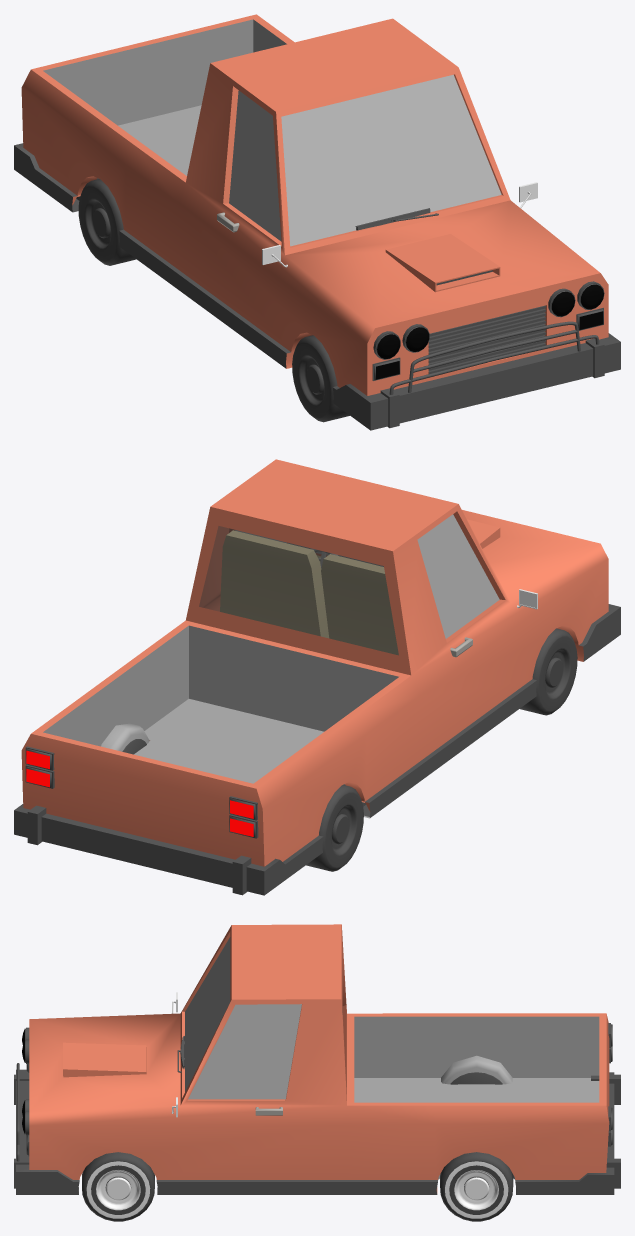
File: car3.fbx
The picture shows the model from 3 angles, top to bottom: view 1: azimuth 30°, elevation 25°; view 2: azimuth 150°, elevation 25°; view 3: azimuth 270°, elevation 25°; orthographic projection. The views are drawn at different scales.
Visible parts, largest first — view 1: Main_car_1_2, Head_lights_5, Back_left_wheel, Front_left_wheel; view 2: Main_car_1_2, Front, Back_left_wheel, Front_left_wheel, Back_lights_4; view 3: Main_car_1_2, Back_right_wheel, Front_right_wheel, Head_lights_5, Back_left_wheel.
Part boxes in pixels (x1=…): Main_car_1_2: x1=14, y1=14, x2=620, y2=430; Head_lights_5: x1=372, y1=281, x2=604, y2=380; Back_left_wheel: x1=78, y1=179, x2=136, y2=265; Front_left_wheel: x1=292, y1=335, x2=349, y2=422; Main_car_1_2: x1=14, y1=459, x2=620, y2=895; Front: x1=220, y1=530, x2=398, y2=655; Back_left_wheel: x1=306, y1=785, x2=363, y2=871; Front_left_wheel: x1=520, y1=628, x2=577, y2=715; Back_lights_4: x1=25, y1=746, x2=258, y2=838; Main_car_1_2: x1=14, y1=924, x2=620, y2=1194; Back_right_wheel: x1=440, y1=1152, x2=513, y2=1221; Front_right_wheel: x1=82, y1=1152, x2=154, y2=1221; Head_lights_5: x1=22, y1=1027, x2=29, y2=1156; Back_left_wheel: x1=450, y1=1072, x2=502, y2=1084.
Bounding box in the file's own units: 366 × 319 × 833.
